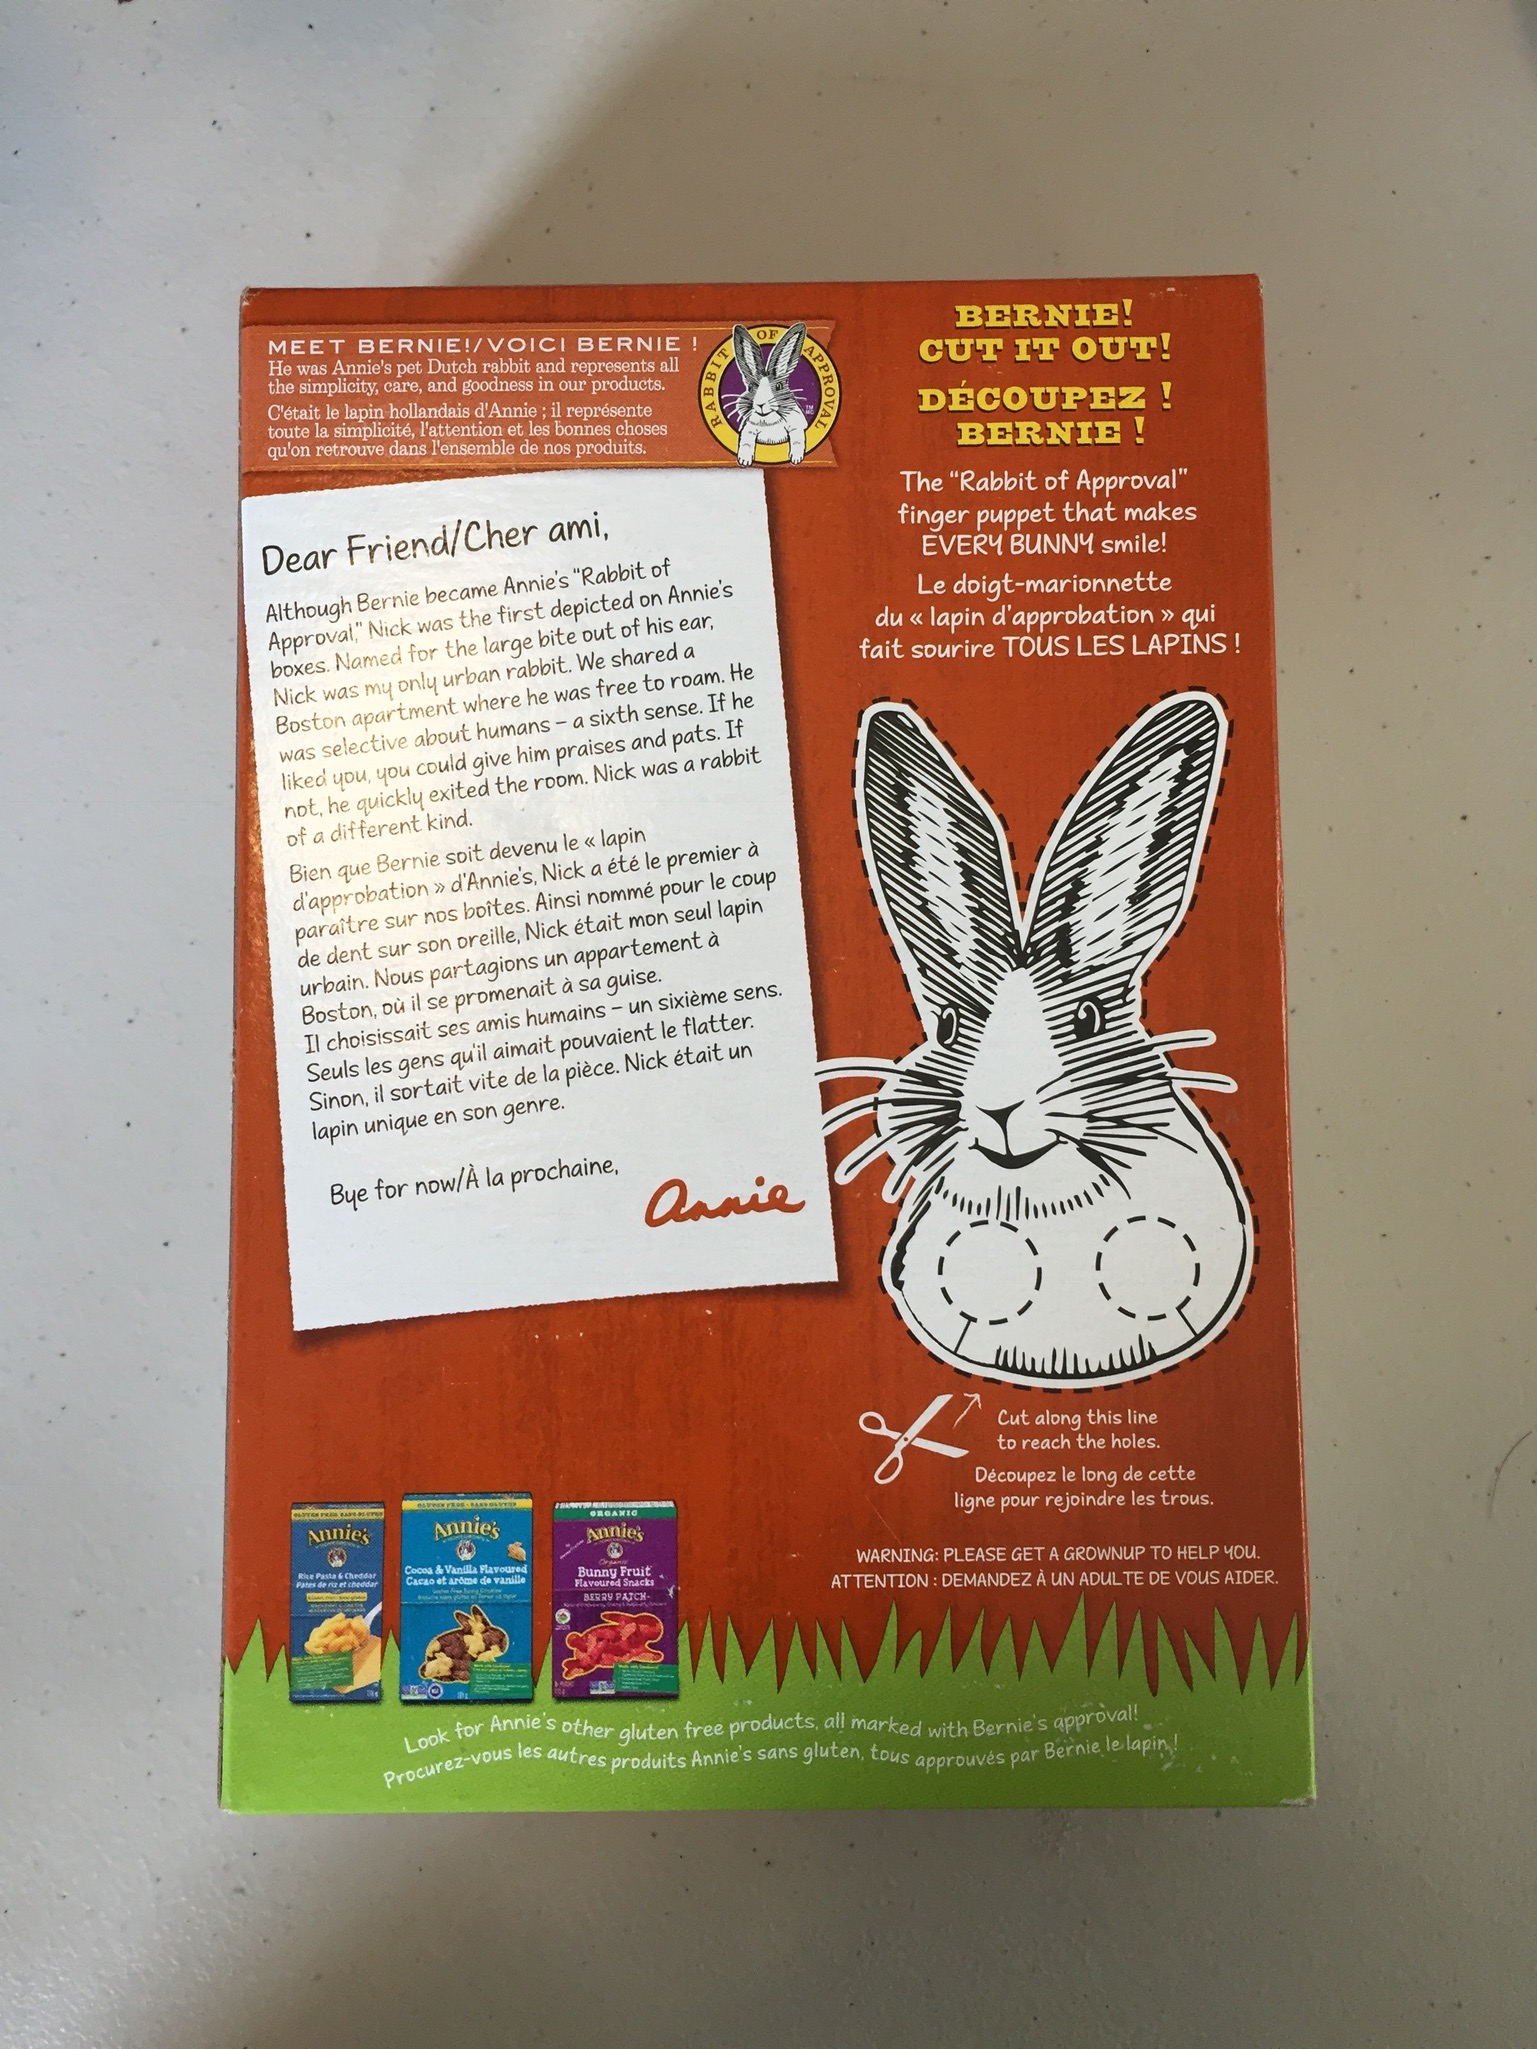annies_snickerdoodle_cinnamon_sugar: (252, 294, 1301, 1799)
